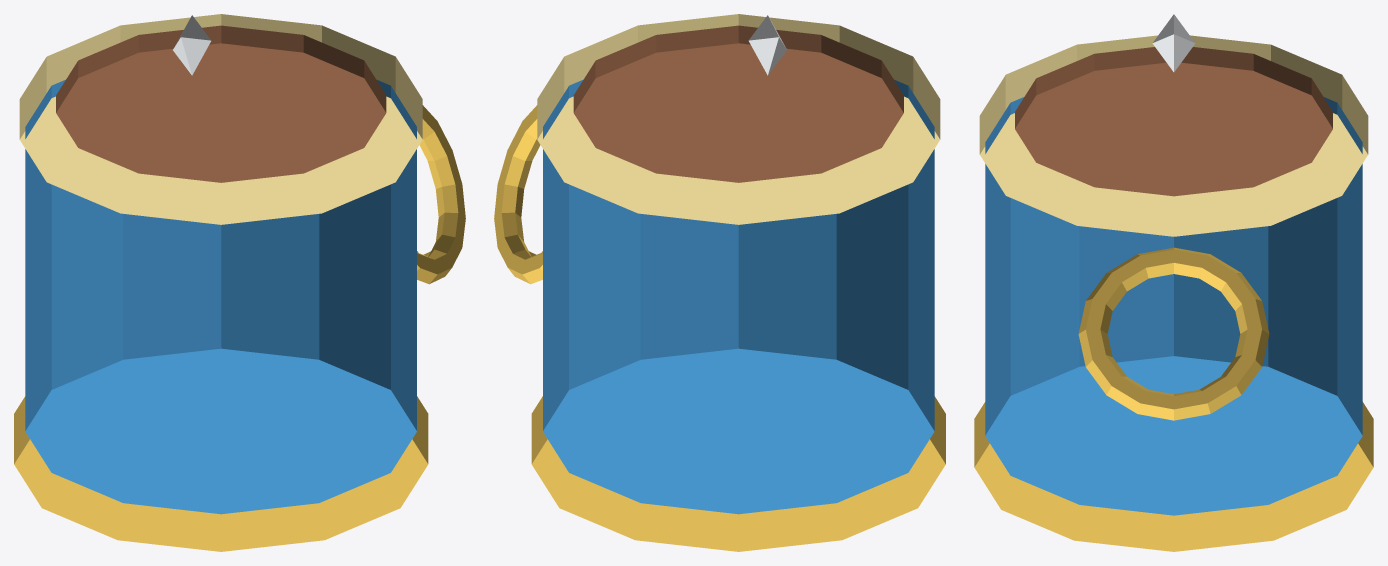
File: minglora_blue_mountain_coffee.gltf
3 views of the same model, side by side, from view 1: azimuth 30°, elevation 25°; view 2: azimuth 150°, elevation 25°; view 3: azimuth 270°, elevation 25° (orthographic). The views are drawn at different scales.
Parts seen in each view (by area): view 1: minglora_blue_mountain_coffee_part_0, minglora_blue_mountain_coffee_part_2, minglora_blue_mountain_coffee_part_1, minglora_blue_mountain_coffee_part_4, minglora_blue_mountain_coffee_part_3, minglora_blue_mountain_coffee_part_5; view 2: minglora_blue_mountain_coffee_part_0, minglora_blue_mountain_coffee_part_2, minglora_blue_mountain_coffee_part_1, minglora_blue_mountain_coffee_part_4, minglora_blue_mountain_coffee_part_3, minglora_blue_mountain_coffee_part_5; view 3: minglora_blue_mountain_coffee_part_0, minglora_blue_mountain_coffee_part_2, minglora_blue_mountain_coffee_part_1, minglora_blue_mountain_coffee_part_4, minglora_blue_mountain_coffee_part_3, minglora_blue_mountain_coffee_part_5.
Part boxes in pixels (bbox=[...]): minglora_blue_mountain_coffee_part_0: bbox=[25, 79, 416, 514]; minglora_blue_mountain_coffee_part_2: bbox=[56, 25, 386, 182]; minglora_blue_mountain_coffee_part_1: bbox=[19, 14, 422, 224]; minglora_blue_mountain_coffee_part_4: bbox=[14, 396, 428, 551]; minglora_blue_mountain_coffee_part_3: bbox=[417, 105, 465, 284]; minglora_blue_mountain_coffee_part_5: bbox=[173, 15, 211, 75]; minglora_blue_mountain_coffee_part_0: bbox=[543, 79, 934, 514]; minglora_blue_mountain_coffee_part_2: bbox=[573, 25, 903, 182]; minglora_blue_mountain_coffee_part_1: bbox=[537, 14, 940, 224]; minglora_blue_mountain_coffee_part_4: bbox=[531, 396, 945, 551]; minglora_blue_mountain_coffee_part_3: bbox=[494, 105, 542, 284]; minglora_blue_mountain_coffee_part_5: bbox=[748, 15, 786, 75]; minglora_blue_mountain_coffee_part_0: bbox=[985, 97, 1362, 515]; minglora_blue_mountain_coffee_part_2: bbox=[1015, 47, 1332, 196]; minglora_blue_mountain_coffee_part_1: bbox=[979, 35, 1368, 236]; minglora_blue_mountain_coffee_part_4: bbox=[974, 402, 1373, 551]; minglora_blue_mountain_coffee_part_3: bbox=[1078, 247, 1269, 420]; minglora_blue_mountain_coffee_part_5: bbox=[1152, 14, 1195, 71].
Size of the model in its own units: 1.56 by 1.8 by 1.48.
